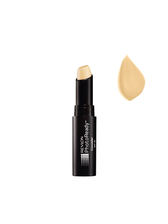other: (65, 60, 105, 181)
